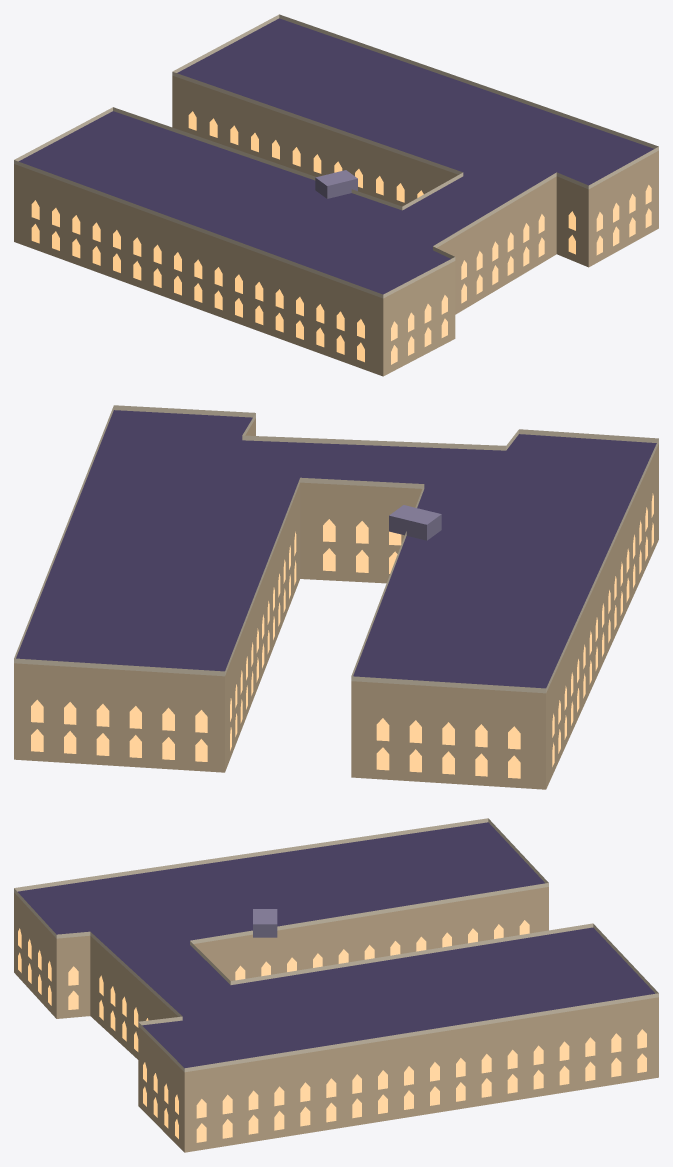
3 renders of one model, top to bottom at view 1: azimuth 30°, elevation 25°; view 2: azimuth 150°, elevation 25°; view 3: azimuth 270°, elevation 25°, orthographic. The views are drawn at different scales.
Parts seen in each view (by area): view 1: campus/b-044-0; view 2: campus/b-044-0; view 3: campus/b-044-0.
Part boxes in pixels (left/top/right/bottom): campus/b-044-0: left=14, top=14, right=658, bottom=376; campus/b-044-0: left=14, top=405, right=658, bottom=789; campus/b-044-0: left=14, top=818, right=658, bottom=1152.
Size of the model in its own units: 72.71 by 12.7 by 79.26.
